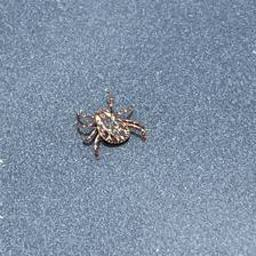Dermacentor variabilis: (74, 97, 148, 159)
